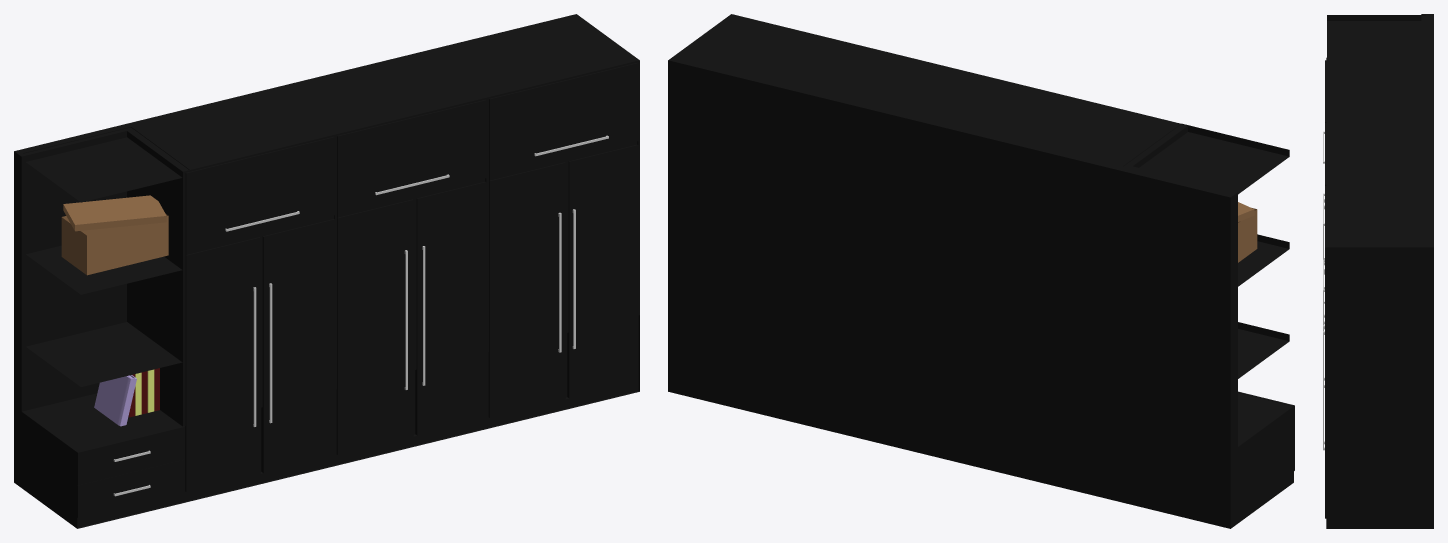
File: CupBoard.glb
The picture shows the model from 3 angles, left to right: view 1: azimuth 30°, elevation 25°; view 2: azimuth 150°, elevation 25°; view 3: azimuth 270°, elevation 25°; orthographic projection. The views are drawn at different scales.
Parts seen in each view (by area): view 1: Plane.009, Cube, Plane.002, Cube.007, Plane.006, Cube.009; view 2: Cube, Plane.002, Cube.007; view 3: Cube, Plane.002, Plane.009, Plane.006.
Part boxes in pixels (x1=…): Plane.009: x1=77, y1=62, x2=638, y2=517; Cube: x1=14, y1=14, x2=639, y2=528; Plane.002: x1=23, y1=127, x2=189, y2=386; Cube.007: x1=61, y1=195, x2=168, y2=275; Plane.006: x1=113, y1=135, x2=608, y2=496; Cube.009: x1=94, y1=375, x2=136, y2=426; Cube: x1=668, y1=14, x2=1293, y2=528; Plane.002: x1=1123, y1=123, x2=1289, y2=378; Cube.007: x1=1238, y1=202, x2=1257, y2=262; Cube: x1=1326, y1=14, x2=1433, y2=528; Plane.002: x1=1327, y1=15, x2=1425, y2=57; Plane.009: x1=1325, y1=60, x2=1326, y2=518; Plane.006: x1=1323, y1=131, x2=1324, y2=450.
Bounding box in the file's own units: 5.28 × 2.98 × 1.06.
